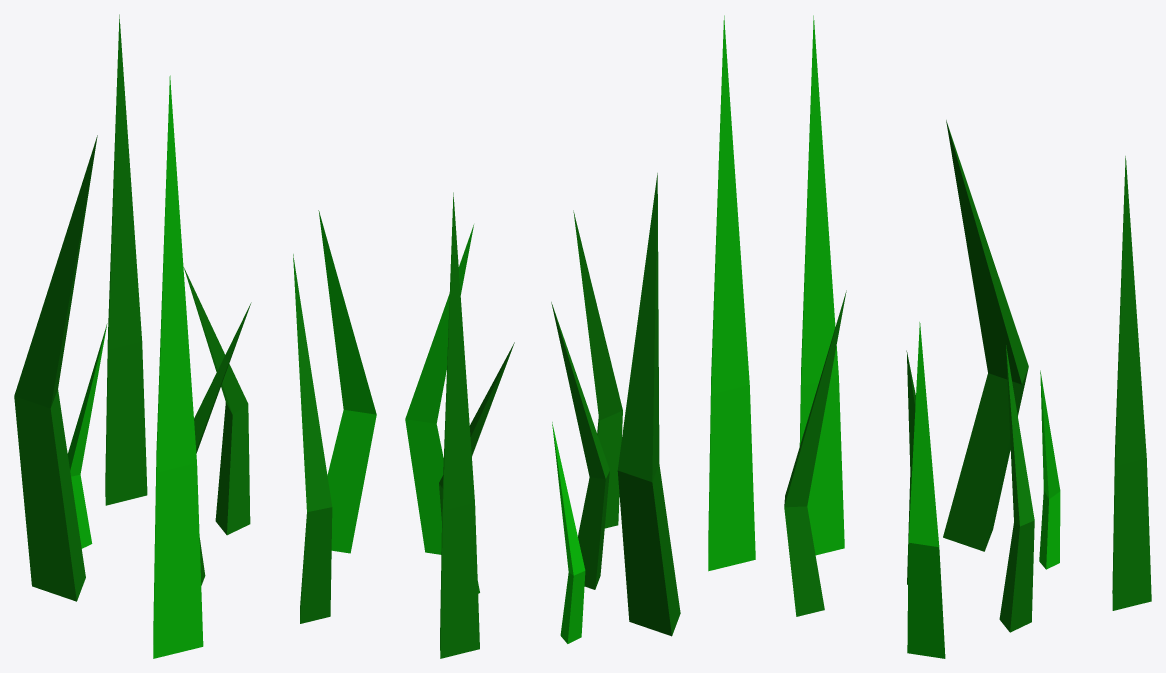
Rendered from Grass1.fbx.
The picture shows the model from 3 angles, left to right: view 1: azimuth 30°, elevation 25°; view 2: azimuth 150°, elevation 25°; view 3: azimuth 270°, elevation 25°; orthographic projection. The views are drawn at different scales.
Visible parts, largest first — view 1: Cone; view 2: Cone; view 3: Cone.
Boxes of the visible parts, <box> form: Cone: <box>14,14,376,658</box>; Cone: <box>405,15,755,658</box>; Cone: <box>784,15,1151,658</box>.
Size of the model in its own units: 57 by 101 by 62.96.
